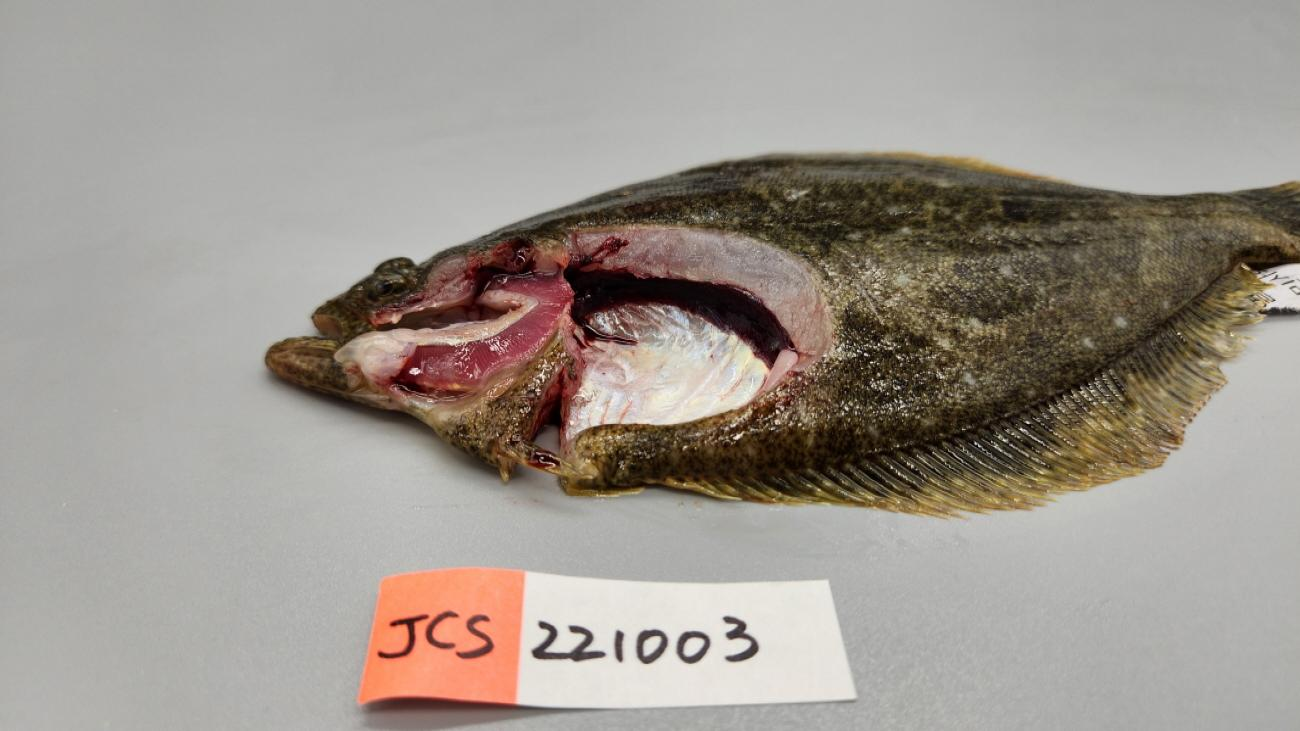POASN: (566, 306, 770, 441)
